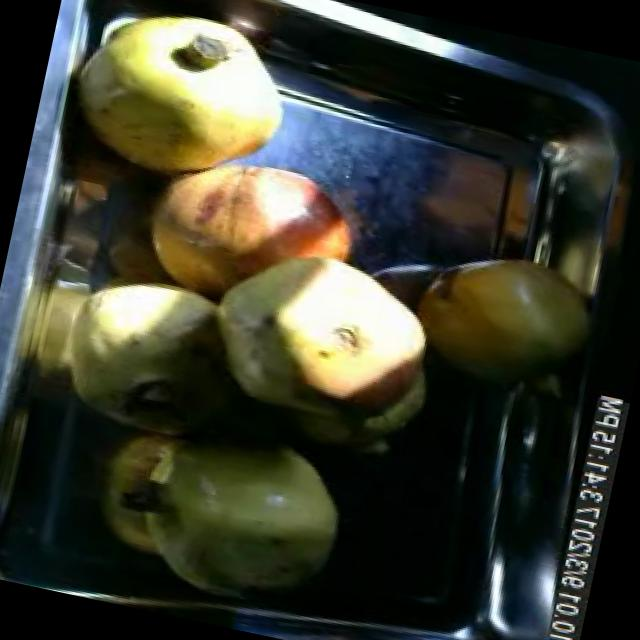fruit: (112, 120, 378, 341), (42, 0, 316, 212), (267, 244, 463, 456)
